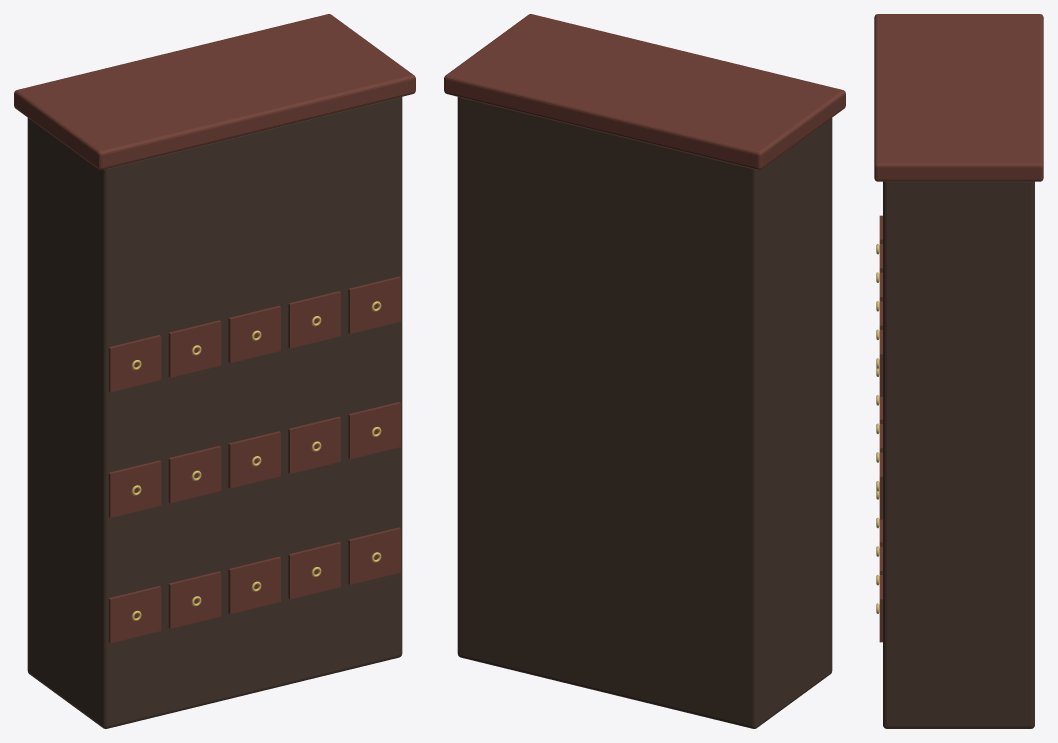
Rendered from cabinet_apothecary.glb.
3 views of the same model, side by side, from view 1: azimuth 30°, elevation 25°; view 2: azimuth 150°, elevation 25°; view 3: azimuth 270°, elevation 25° (orthographic). The views are drawn at different scales.
Parts seen in each view (by area): view 1: GD_cabinet_apothecary__m0, GD_cabinet_apothecary__m1, GD_cabinet_apothecary__m2; view 2: GD_cabinet_apothecary__m0, GD_cabinet_apothecary__m1; view 3: GD_cabinet_apothecary__m0, GD_cabinet_apothecary__m1, GD_cabinet_apothecary__m2.
Part boxes in pixels (bbox=[...]): GD_cabinet_apothecary__m0: bbox=[27, 97, 402, 728]; GD_cabinet_apothecary__m1: bbox=[14, 14, 415, 643]; GD_cabinet_apothecary__m2: bbox=[131, 301, 381, 620]; GD_cabinet_apothecary__m0: bbox=[457, 97, 832, 728]; GD_cabinet_apothecary__m1: bbox=[444, 14, 845, 169]; GD_cabinet_apothecary__m0: bbox=[883, 181, 1034, 728]; GD_cabinet_apothecary__m1: bbox=[874, 14, 1043, 642]; GD_cabinet_apothecary__m2: bbox=[876, 244, 879, 613].
Size of the model in its own units: 1.06 by 1.86 by 0.5.
